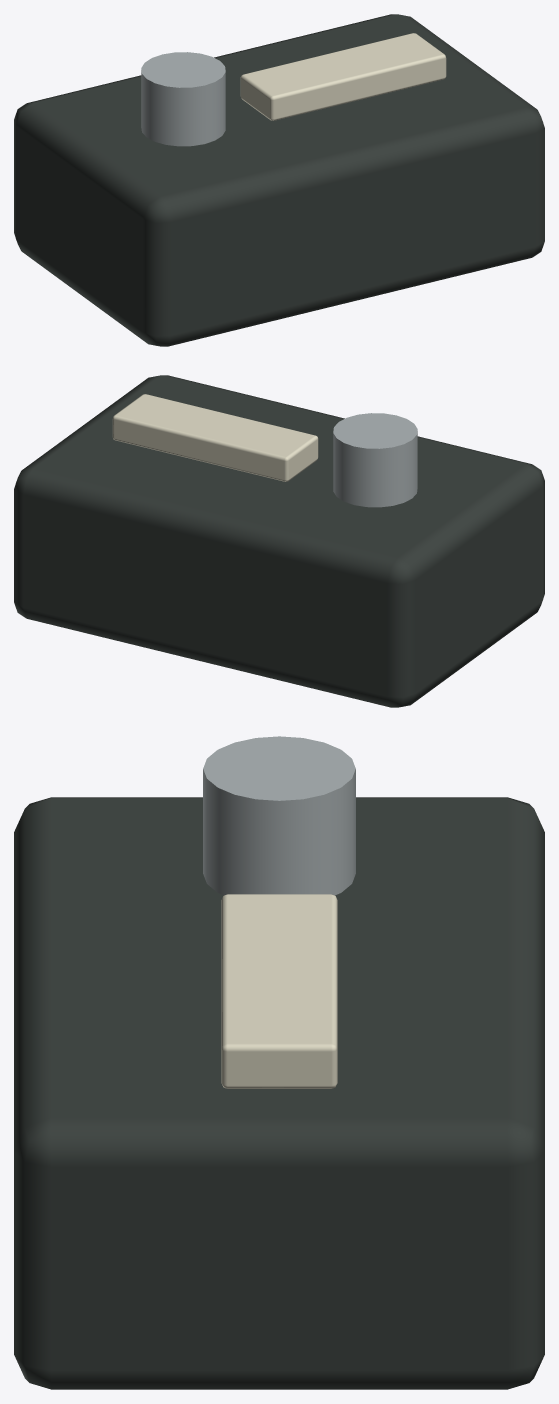
3 views of the same model, one above another, from view 1: azimuth 30°, elevation 25°; view 2: azimuth 150°, elevation 25°; view 3: azimuth 270°, elevation 25° (orthographic). The views are drawn at different scales.
Visible parts, largest first — view 1: coin-assay-block; view 2: coin-assay-block; view 3: coin-assay-block.
Boxes of the visible parts, <box> form: coin-assay-block: <box>14,14,544,346</box>; coin-assay-block: <box>14,375,544,707</box>; coin-assay-block: <box>14,736,544,1389</box>.
Size of the model in its own units: 0.25 by 0.125 by 0.16.
